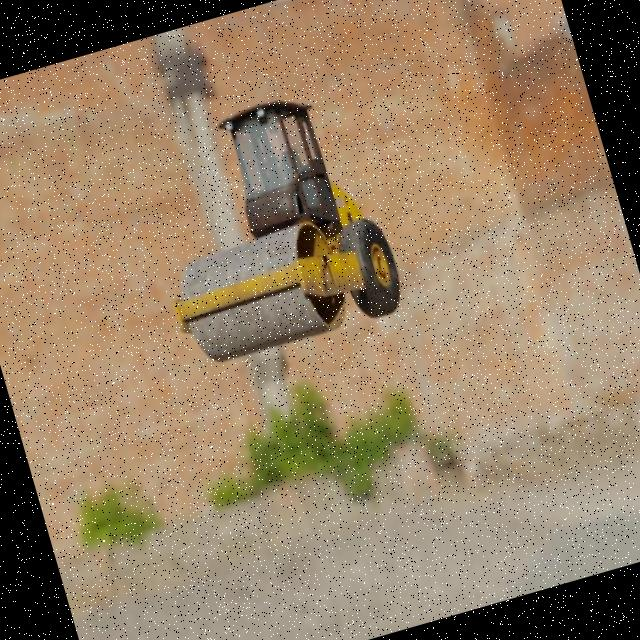Roller: (124, 77, 408, 371)
